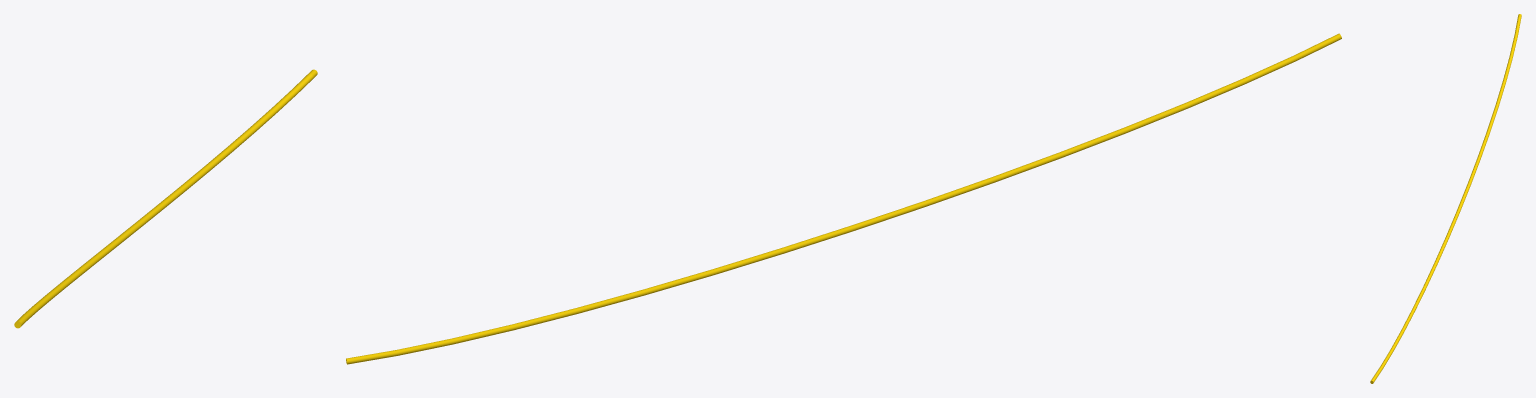
Rendered from Event_421556567_track_10.fbx.
The picture shows the model from 3 angles, left to right: view 1: azimuth 90°, elevation 25°; view 2: azimuth 210°, elevation 25°; view 3: azimuth 270°, elevation 25°; orthographic projection. The views are drawn at different scales.
Visible parts, largest first — view 1: Model; view 2: Model; view 3: Model.
Boxes of the visible parts, x1,y1,x2,y2 form: Model: (14, 69, 317, 328); Model: (346, 33, 1341, 364); Model: (1370, 14, 1521, 383).
Bounding box in the file's own units: 6.53 × 1.53 × 1.69.
